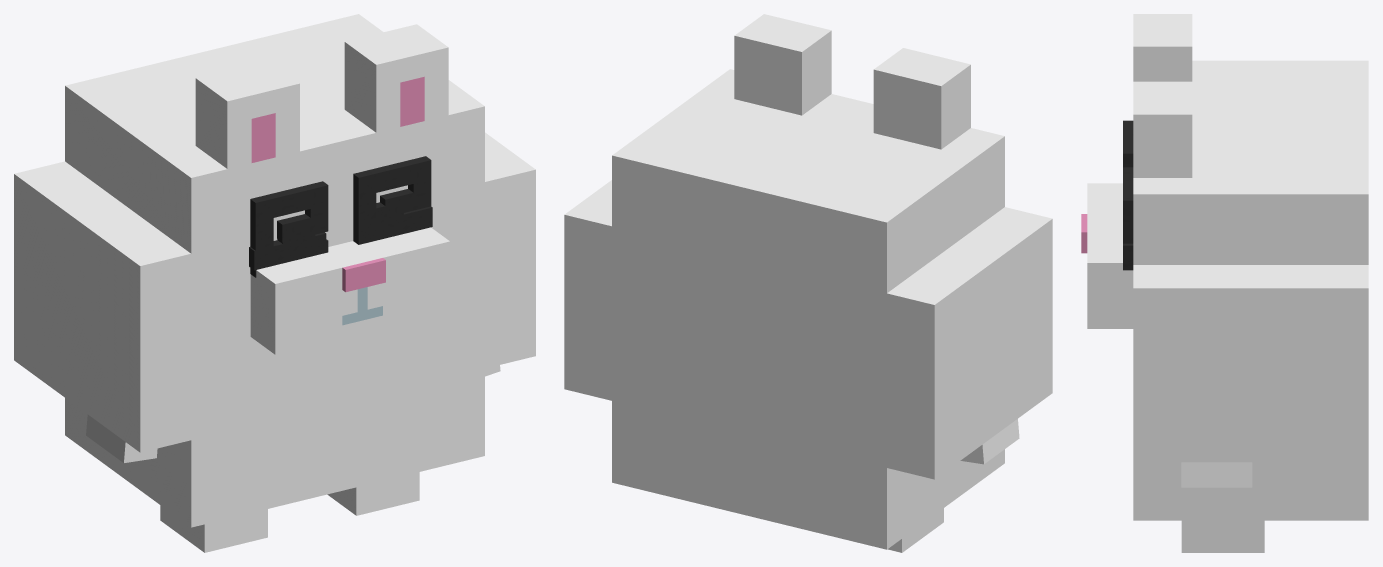
3 renders of one model, left to right at view 1: azimuth 30°, elevation 25°; view 2: azimuth 150°, elevation 25°; view 3: azimuth 270°, elevation 25°, orthographic. The views are drawn at different scales.
Parts seen in each view (by area): view 1: Ch_26, Ch_26_Ear, Ch_26_Eye_03_R, Ch_26_Eye_03_L, Ch_26_Leg_L, Ch_26_Leg_R, Ch_26_Hand_L; view 2: Ch_26, Ch_26_Ear, Ch_26_Hand_L, Ch_26_Leg_L; view 3: Ch_26, Ch_26_Ear, Ch_26_Leg_R, Ch_26_Hand_R, Ch_26_Eye_03_R, Ch_26_Eye_03_L.
Part boxes in pixels (<box>): Ch_26: <box>14,14,535,527</box>; Ch_26_Ear: <box>195,24,448,168</box>; Ch_26_Eye_03_R: <box>353,156,431,244</box>; Ch_26_Eye_03_L: <box>250,181,328,277</box>; Ch_26_Leg_L: <box>160,505,267,552</box>; Ch_26_Leg_R: <box>327,472,419,515</box>; Ch_26_Hand_L: <box>86,414,157,462</box>; Ch_26: <box>564,69,1052,549</box>; Ch_26_Ear: <box>734,14,970,149</box>; Ch_26_Hand_L: <box>960,419,1019,464</box>; Ch_26_Leg_L: <box>887,508,943,552</box>; Ch_26: <box>1081,60,1368,520</box>; Ch_26_Ear: <box>1133,14,1192,177</box>; Ch_26_Leg_R: <box>1181,520,1264,552</box>; Ch_26_Hand_R: <box>1181,462,1252,487</box>; Ch_26_Eye_03_R: <box>1123,167,1133,270</box>; Ch_26_Eye_03_L: <box>1123,120,1133,167</box>.
Size of the model in its own units: 9.08 by 10.34 by 6.12.
